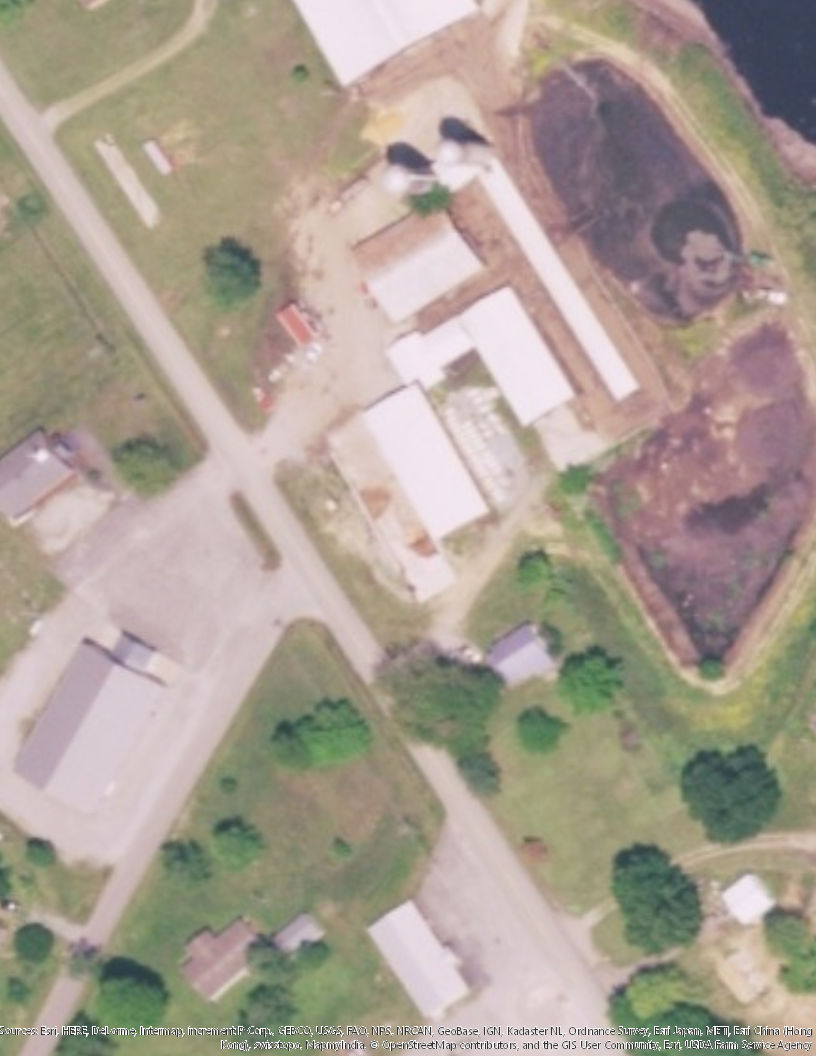cafo: (382, 270, 581, 441), (341, 377, 496, 543), (345, 197, 488, 325)
